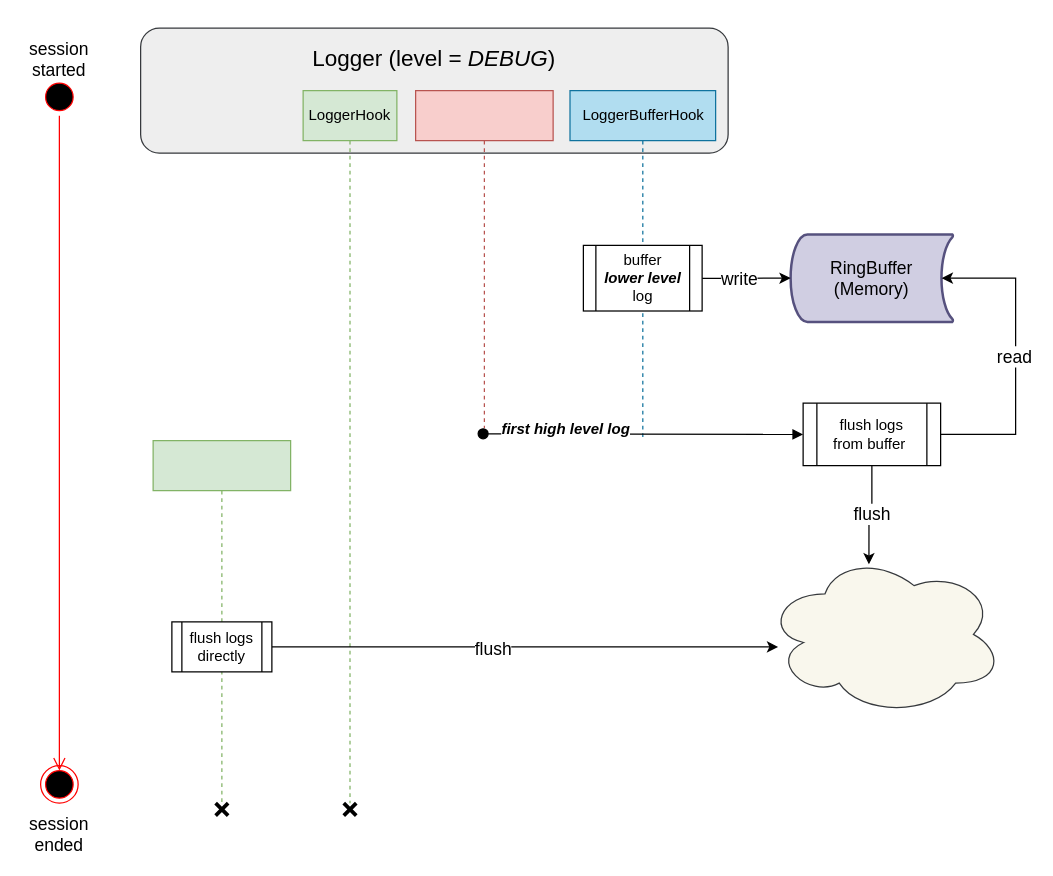
Some shapes in this 1053 by 876 pixel diagram are drawn without their labels. Here are the shapes that lost their labels. From the top down, the box of each, then its label:
(39, 77, 78, 116): start
(414, 89, 553, 428): LoggerFlushHook
(152, 439, 291, 803): LoggerPlainHook
(764, 552, 1003, 716): AWS CloudWatch (STDOUT)
